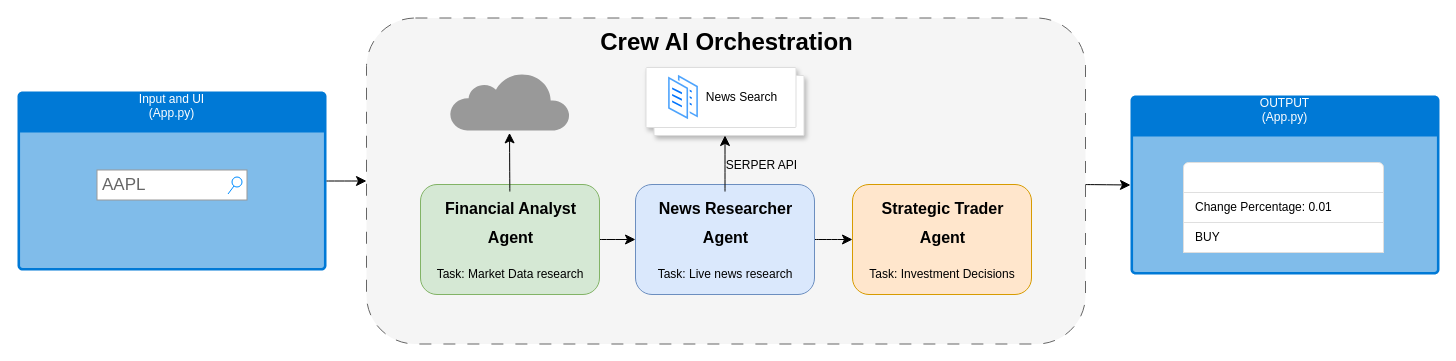
Some shapes in this 1456 by 361 pixel diagram are drawn without their labels. Each missing label, with the centre of its shape:
"Current Price: 12$" belongs at [1283,177].
"Yahoo finanace" belongs at [510,101].
